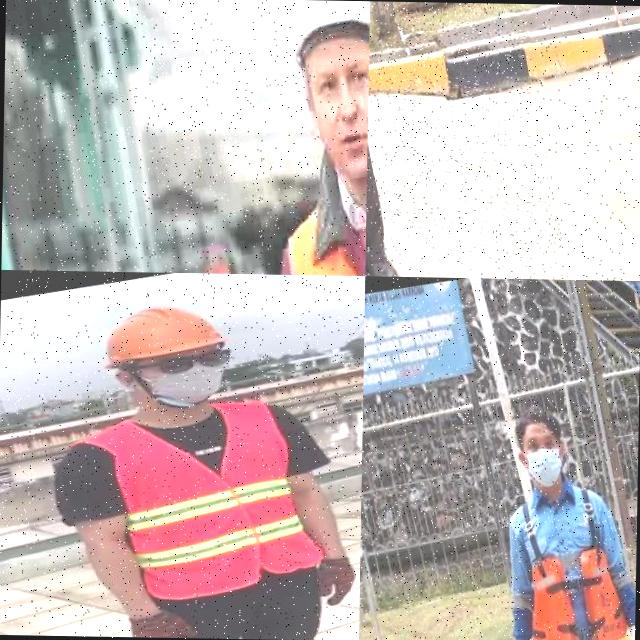boots: (364, 246, 406, 276)
helmet: (89, 292, 229, 372), (272, 0, 369, 79)
vest: (102, 386, 324, 608), (500, 478, 636, 640)
